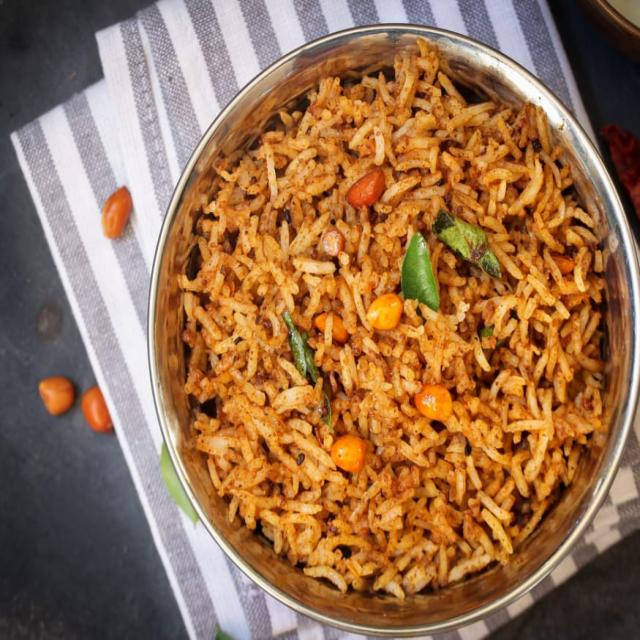puliyogare: (150, 29, 632, 610)
